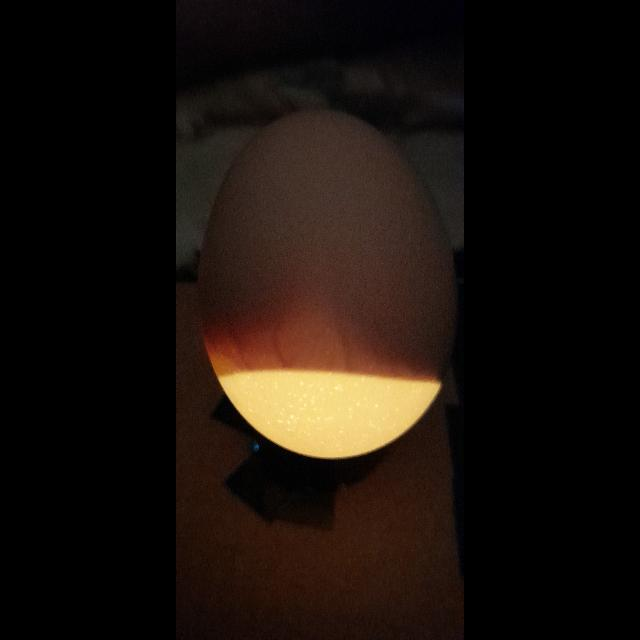Fertile: (198, 99, 458, 467)
